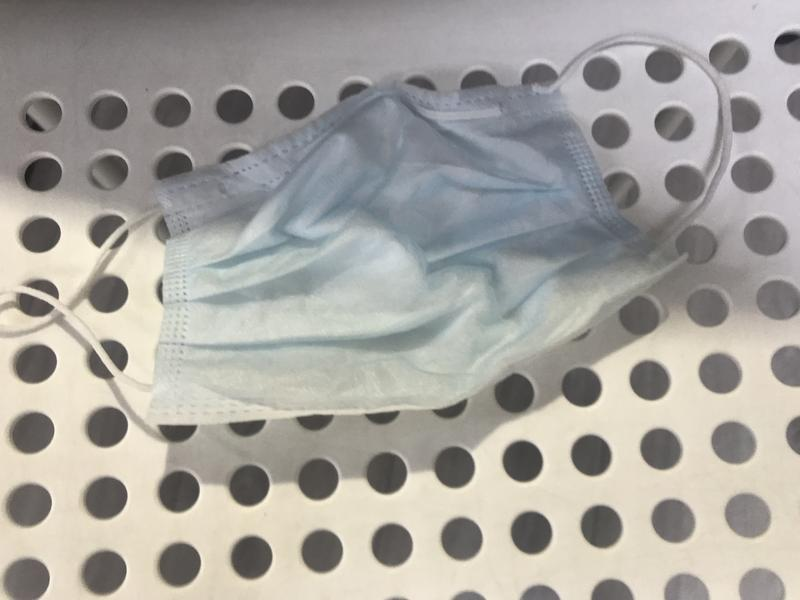medical_mask: (2, 33, 732, 419)
